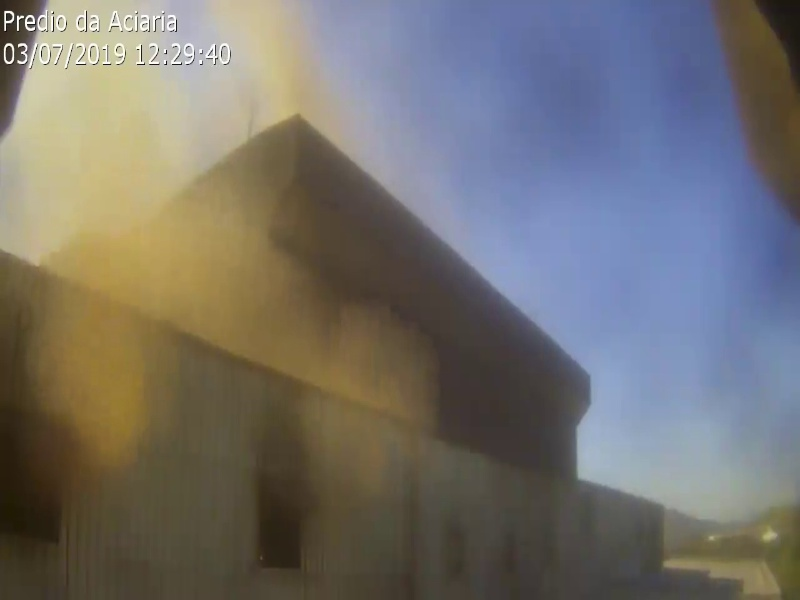Pessimo: (5, 6, 465, 521)
